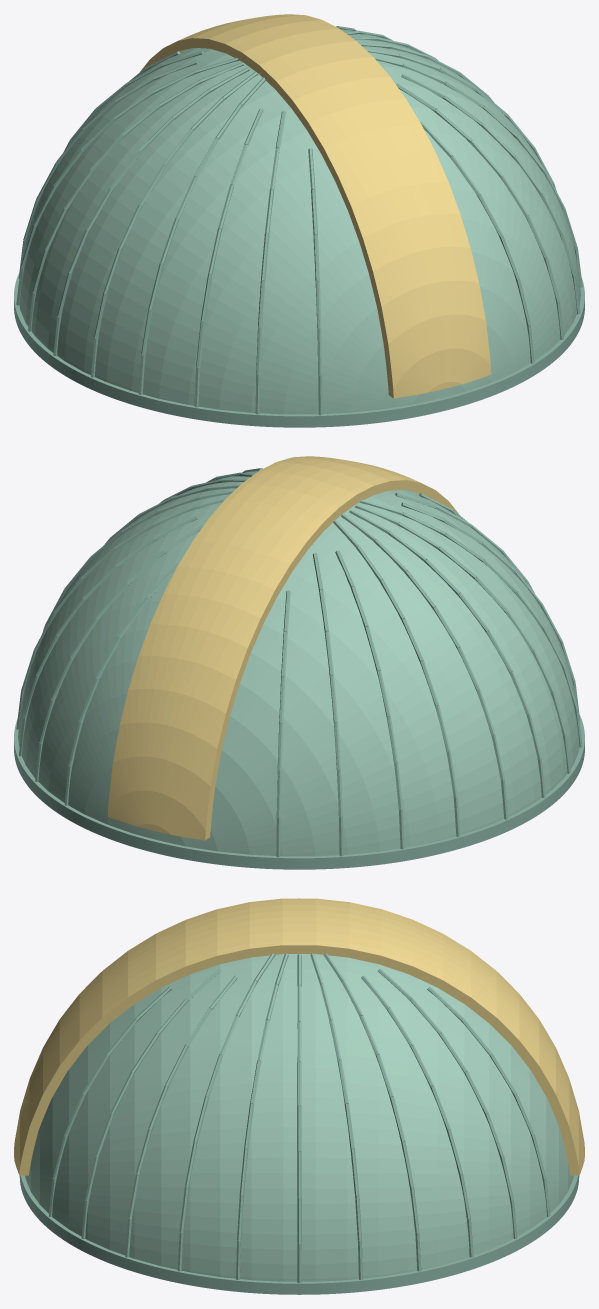
The model's file is dome_wing.glb.
3 views of the same model, one above another, from view 1: azimuth 30°, elevation 25°; view 2: azimuth 150°, elevation 25°; view 3: azimuth 270°, elevation 25° (orthographic). The views are drawn at different scales.
Parts seen in each view (by area): view 1: dome_wing_copper, dome_wing_shutter, dome_wing_copper_d; view 2: dome_wing_copper, dome_wing_shutter, dome_wing_copper_d; view 3: dome_wing_copper, dome_wing_shutter, dome_wing_copper_d.
Part boxes in pixels (x1=…): dome_wing_copper: x1=19, y1=29, x2=580, y2=414; dome_wing_shutter: x1=140, y1=14, x2=491, y2=398; dome_wing_copper_d: x1=14, y1=26, x2=584, y2=427; dome_wing_copper: x1=18, y1=471, x2=579, y2=856; dome_wing_shutter: x1=107, y1=456, x2=459, y2=840; dome_wing_copper_d: x1=14, y1=468, x2=584, y2=869; dome_wing_copper: x1=25, y1=954, x2=573, y2=1281; dome_wing_shutter: x1=14, y1=898, x2=584, y2=1175; dome_wing_copper_d: x1=19, y1=898, x2=579, y2=1294.
Bounding box in the file's own units: 4.56 × 2.34 × 4.65.
